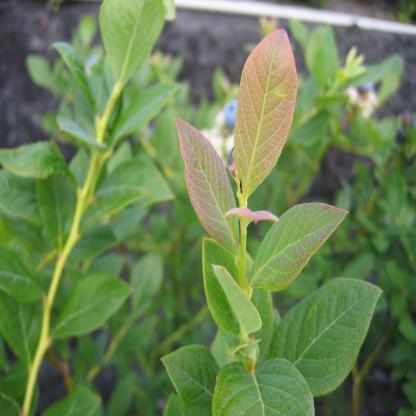Blueberry leaf: (273, 274, 384, 399), (234, 29, 300, 214), (254, 195, 364, 294), (173, 114, 242, 243), (201, 352, 319, 414)
